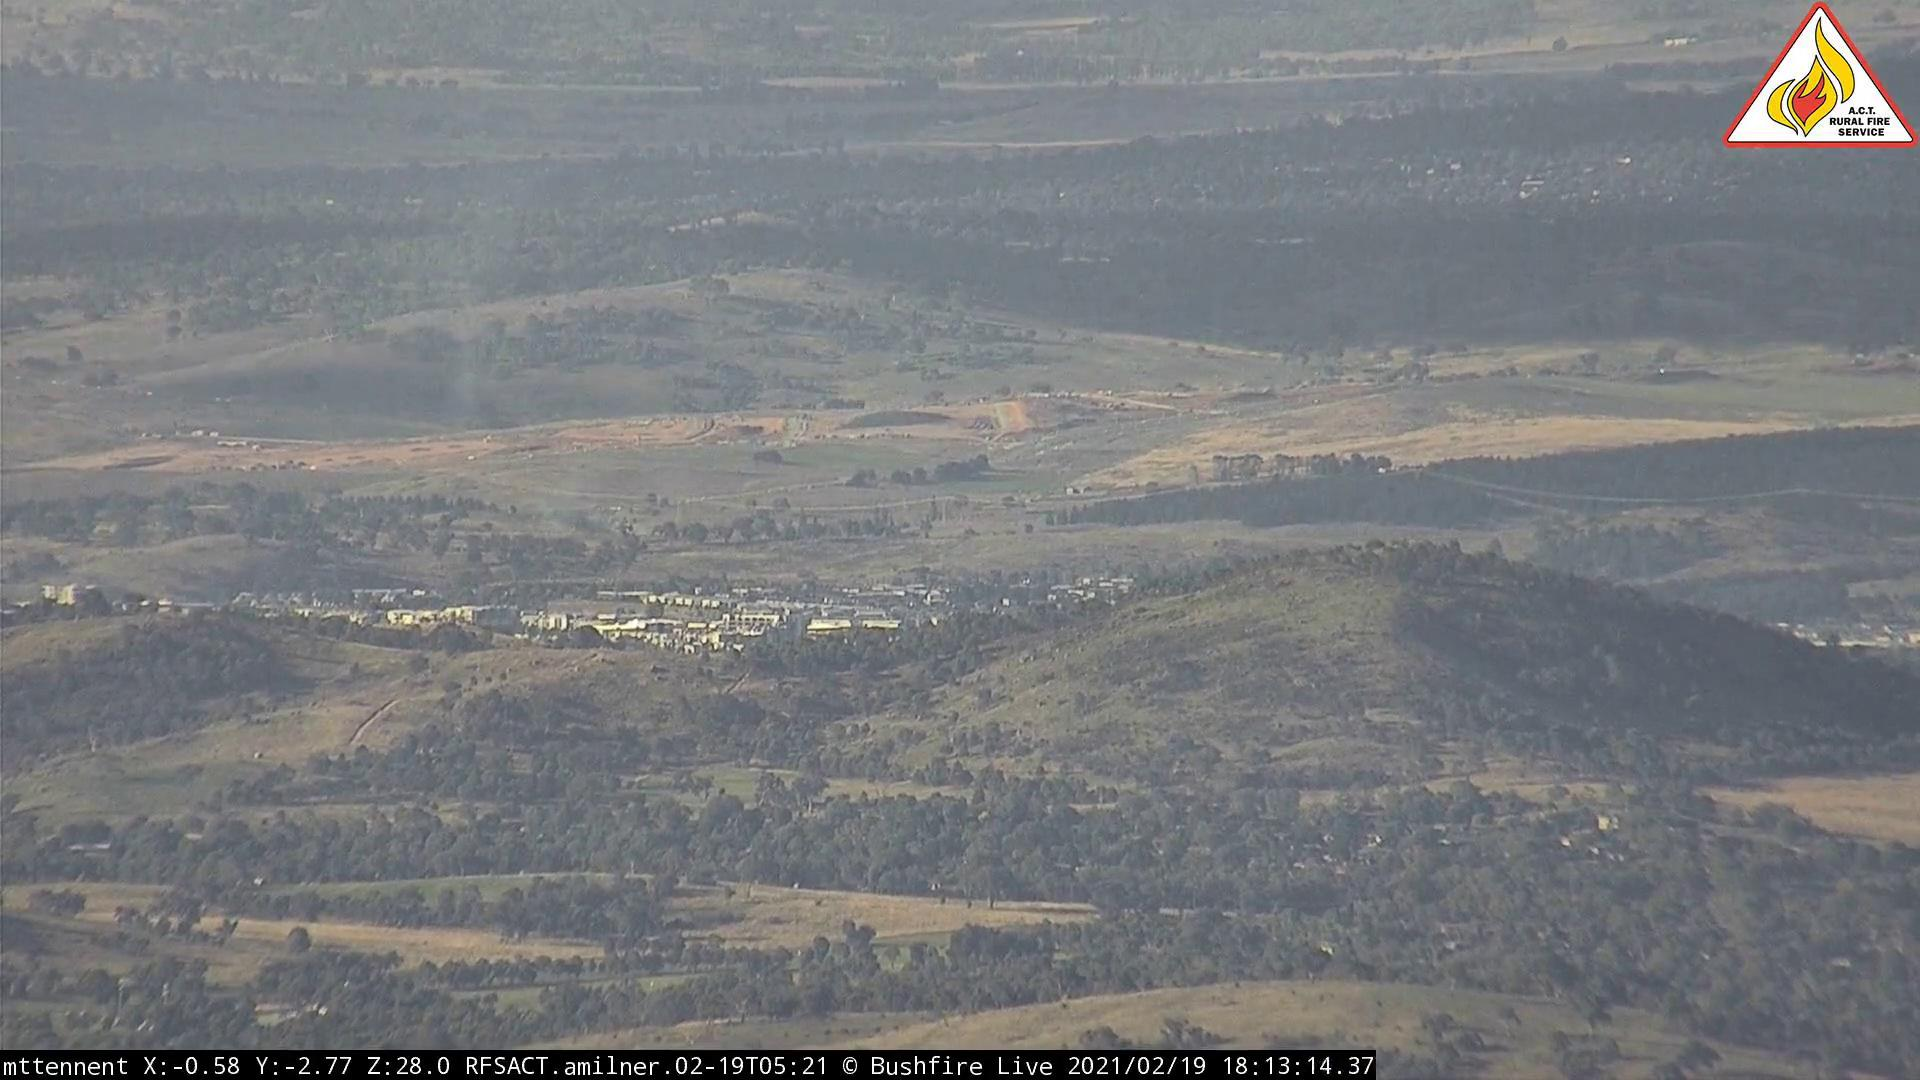Smoke: (589, 513, 636, 563)
